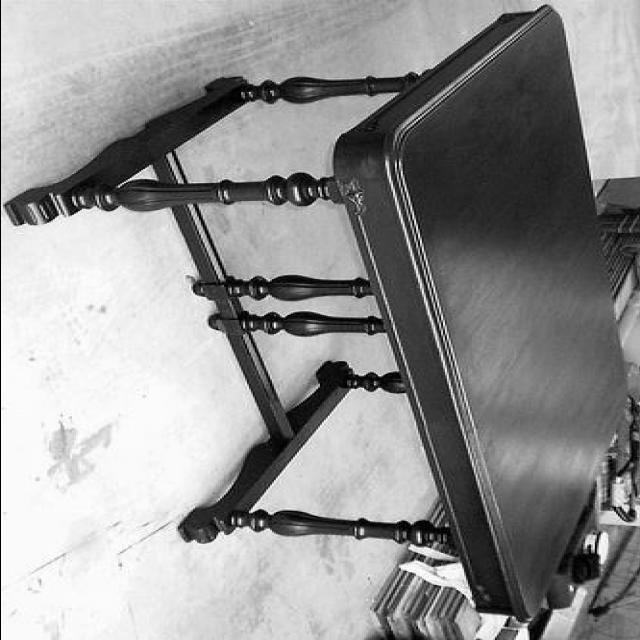table: (6, 5, 630, 623)
